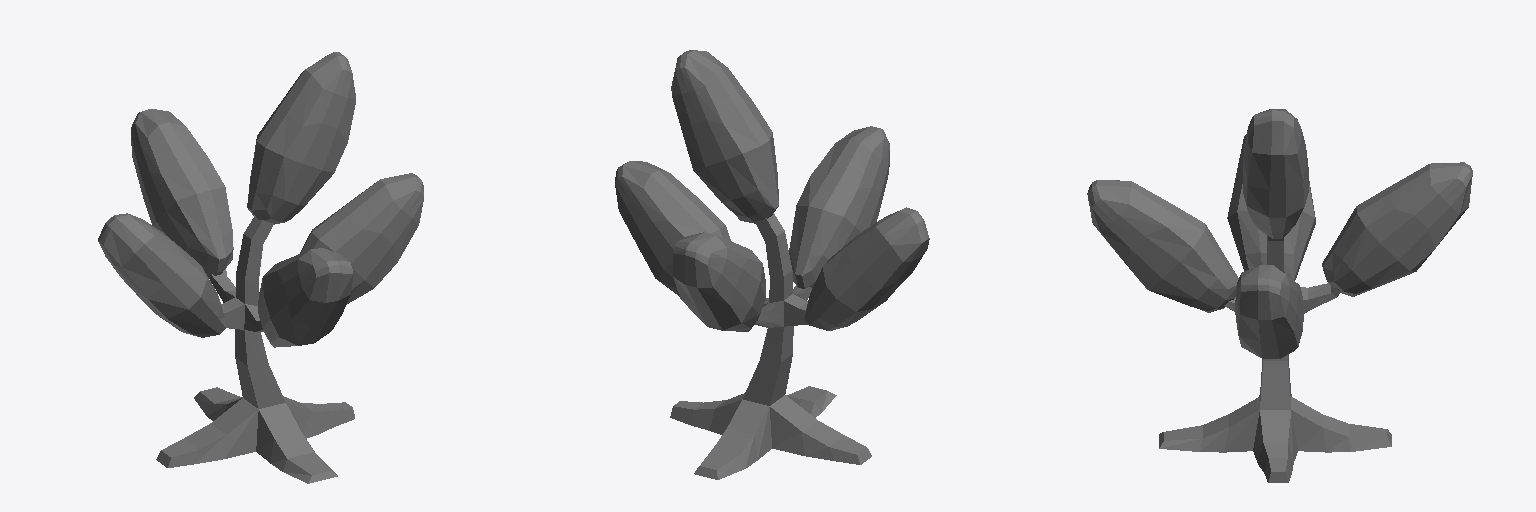
Rendered from Candy_Corn_Tree.obj.
The picture shows the model from 3 angles: view 1: azimuth 30°, elevation 25°; view 2: azimuth 150°, elevation 25°; view 3: azimuth 270°, elevation 25°; orthographic projection.
Parts seen in each view (by area): view 1: polySurface76_polySurface76, polySurface77_polySurface77, polySurface79_polySurface79, polySurface80_polySurface80, polySurface78_polySurface78, polySurface81_polySurface81; view 2: polySurface76_polySurface76, polySurface77_polySurface77, polySurface81_polySurface81, polySurface80_polySurface80, polySurface79_polySurface79, polySurface78_polySurface78; view 3: polySurface76_polySurface76, polySurface79_polySurface79, polySurface81_polySurface81, polySurface77_polySurface77, polySurface78_polySurface78, polySurface80_polySurface80.
Part boxes in pixels (bbox=[...]): polySurface76_polySurface76: bbox=[156, 217, 354, 483]; polySurface77_polySurface77: bbox=[247, 52, 355, 224]; polySurface79_polySurface79: bbox=[131, 109, 233, 277]; polySurface80_polySurface80: bbox=[98, 213, 225, 337]; polySurface78_polySurface78: bbox=[300, 173, 423, 303]; polySurface81_polySurface81: bbox=[258, 248, 352, 347]; polySurface76_polySurface76: bbox=[670, 213, 871, 479]; polySurface77_polySurface77: bbox=[671, 50, 778, 223]; polySurface81_polySurface81: bbox=[789, 126, 889, 288]; polySurface80_polySurface80: bbox=[805, 207, 929, 330]; polySurface79_polySurface79: bbox=[673, 232, 765, 331]; polySurface78_polySurface78: bbox=[615, 161, 731, 296]; polySurface76_polySurface76: bbox=[1159, 235, 1391, 482]; polySurface79_polySurface79: bbox=[1322, 162, 1472, 296]; polySurface81_polySurface81: bbox=[1087, 180, 1238, 312]; polySurface77_polySurface77: bbox=[1243, 109, 1308, 238]; polySurface78_polySurface78: bbox=[1235, 265, 1303, 358]; polySurface80_polySurface80: bbox=[1227, 135, 1315, 280].
Bounding box in the file's own units: 2.99 × 3.34 × 3.17.